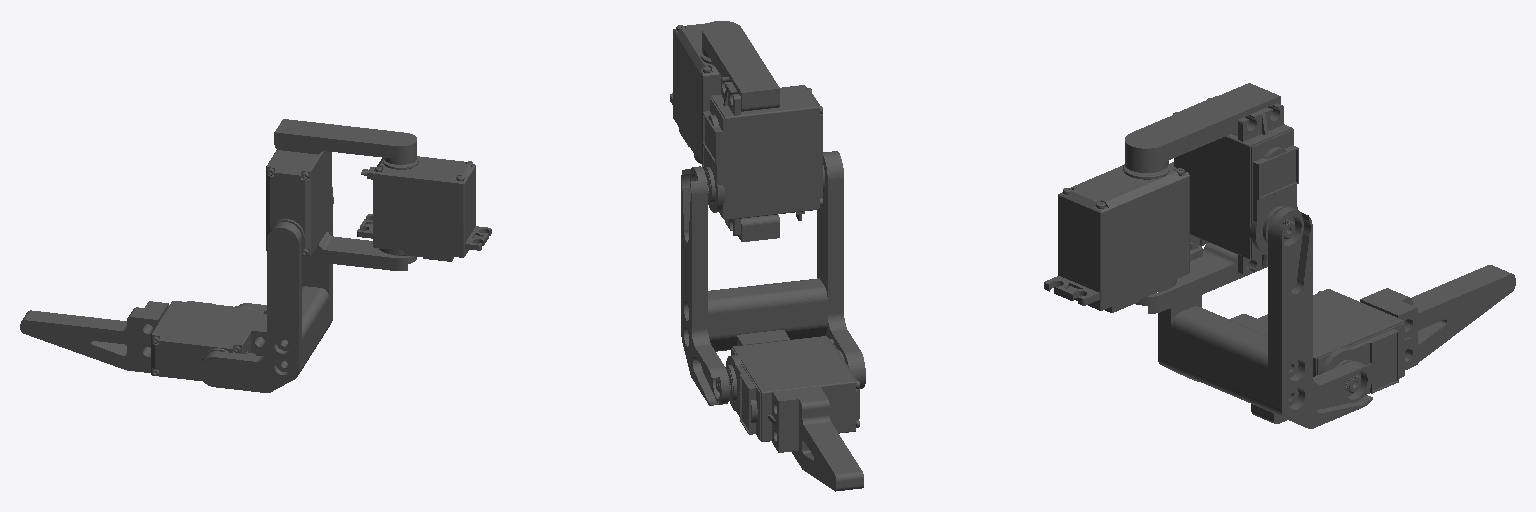
robot.urdf — hexapod:
<?xml version='1.0' encoding='utf-8'?>
<robot name="hexapod">

    <material name="black">
        <color rgba="0 0 0 1" />
    </material>

    <material name="gray">
        <color rgba="0.4 0.4 0.4 1" />
    </material>

    <material name="white">
        <color rgba="1 1 1 1" />
    </material>

    <material name="orange">
        <color rgba="0.902 0.345 0 1" />
    </material>

    <!--Leg 1 links-->
    <link name="base_link">
        <inertial>
            <origin xyz="-0.0213566016347122 0.013931984749781528 0.00836989290746161" rpy="0.0 -0.0 0.0" />
            <mass value="0.207953278714177" />
            <inertia ixx="3.989639417761133e-05" iyy="3.989640031111844e-05" izz="3.6226092838335206e-05" ixy="1.1428841708080039e-05" iyz="3.349213930771384e-07" ixz="-3.349118845850951e-07" />
        </inertial>
        <visual name="base_link_visual">
            <origin xyz="-0.013930002111251416 -0.007283200121891475 2.2204460492503132e-17" rpy="3.141592653589793 1.245344534372108e-16 2.356194490192345" />
            <geometry>
                <mesh filename="CAD/MG996R.stl" scale="0.001 0.001 0.001" />
            </geometry>
            <material name="gray"/>
        </visual>
        <collision name="base_link_collision">
            <origin xyz="-0.013930002111251416 -0.007283200121891475 2.2204460492503132e-17" rpy="3.141592653589793 1.245344534372108e-16 2.356194490192345" />
            <geometry>
                <mesh filename="CAD/MG996R.stl" scale="0.001 0.001 0.001" />
            </geometry>
        </collision>
    </link>

    <link name="leg_1_MG996R_f">
        <inertial>
            <origin xyz="0.024952796767646526 0.009630716290236095 0.0022060948384998546" rpy="0.0 -0.0 0.0" />
            <mass value="0.207953278714177" />
            <inertia ixx="2.846755553628441e-05" iyy="4.377565917187119e-05" izz="4.377567261890959e-05" ixy="3.349144703087767e-07" iyz="-7.549573057054858e-06" ixz="3.349188073535178e-07" />
        </inertial>
        <visual name="leg_1_MG996R_f_visual">
            <origin xyz="0.004699996796564361 0.01060660093167094 -0.01060660586827753" rpy="2.3561944901923453 3.410597503508584e-17 1.540743955509788e-32" />
            <geometry>
                <mesh filename="CAD/MG996R.stl" scale="0.001 0.001 0.001" />
            </geometry>
            <material name="gray"/>
        </visual>
        <collision name="leg_1_MG996R_f_collision">
            <origin xyz="0.004699996796564361 0.01060660093167094 -0.01060660586827753" rpy="2.3561944901923453 3.410597503508584e-17 1.540743955509788e-32" />
            <geometry>
                <mesh filename="CAD/MG996R.stl" scale="0.001 0.001 0.001" />
            </geometry>
        </collision>
    </link>

    <link name="leg_1_MG996R_t">
        <inertial>
            <origin xyz="0.008979632074602933 -0.02311780679666102 4.09182035809863e-09" rpy="0.0 -0.0 7.002961686799377e-34" />
            <mass value="0.207953278714177" />
            <inertia ixx="3.187318053441031e-05" iyy="3.282046784020779e-05" izz="5.1325238952446006e-05" ixy="-3.879268651024205e-06" iyz="6.92276835135608e-12" ixz="-2.5857237346299217e-12" />
        </inertial>
        <visual name="leg_1_MG996R_t_visual">
            <origin xyz="0.0005771479097073318 -0.043357107026899176 -0.009749998110869998" rpy="1.5707963267948968 -2.529221735498422e-16 0.7853981633974484" />
            <geometry>
                <mesh filename="CAD/MG996R.stl" scale="0.001 0.001 0.001" />
            </geometry>
            <material name="gray"/>
        </visual>
        <collision name="leg_1_MG996R_t_collision">
            <origin xyz="0.0005771479097073318 -0.043357107026899176 -0.009749998110869998" rpy="1.5707963267948968 -2.529221735498422e-16 0.7853981633974484" />
            <geometry>
                <mesh filename="CAD/MG996R.stl" scale="0.001 0.001 0.001" />
            </geometry>
        </collision>
    </link>

    <link name="leg_1_coxa_a">
        <inertial>
            <origin xyz="0.008150925434592561 0.01830499415619695 0.0006271852210843588" rpy="0.0 -0.0 0.0" />
            <mass value="0.03329037594662584" />
            <inertia ixx="4.131218918157248e-06" iyy="4.292509549727152e-06" izz="8.13497513364118e-06" ixy="-3.4675873338201415e-06" iyz="-4.436065358599036e-08" ixz="-4.967608887462187e-08" />
        </inertial>
        <visual name="leg_1_coxa_a_visual">
            <origin xyz="-0.008308500528462624 0.0015909894715424855 -0.001750003203435586" rpy="-1.245344534372106e-16 1.5023172683244996e-16 -0.7853981633974481" />
            <geometry>
                <mesh filename="CAD/coxa_a_right.stl" scale="0.001 0.001 0.001" />
            </geometry>
            <material name="gray"/>
        </visual>
        <collision name="leg_1_coxa_a_collision">
            <origin xyz="-0.008308500528462624 0.0015909894715424855 -0.001750003203435586" rpy="-1.245344534372106e-16 1.5023172683244996e-16 -0.7853981633974481" />
            <geometry>
                <mesh filename="CAD/coxa_a_right.stl" scale="0.001 0.001 0.001" />
            </geometry>
        </collision>
    </link>

    <link name="leg_1_coxa_b">
        <inertial>
            <origin xyz="-0.016082730051457803 -0.015894011955612512 -0.005835649360206568" rpy="0.0 -0.0 0.0" />
            <mass value="0.04490836615745227" />
            <inertia ixx="7.570806724760545e-06" iyy="7.815179248384845e-06" izz="1.486969927151291e-05" ixy="-6.737300382606579e-06" iyz="-1.0459627444581849e-07" ixz="-1.0048041289742698e-07" />
        </inertial>
        <visual name="leg_1_coxa_b_visual">
            <origin xyz="-0.037476660528462616 -0.037476660528457516 0.04149999679656438" rpy="-1.245344534372106e-16 1.5023172683245e-16 -0.7853981633974481" />
            <geometry>
                <mesh filename="CAD/coxa_b_right.stl" scale="0.001 0.001 0.001" />
            </geometry>
            <material name="gray"/>
        </visual>
        <collision name="leg_1_coxa_b_collision">
            <origin xyz="-0.037476660528462616 -0.037476660528457516 0.04149999679656438" rpy="-1.245344534372106e-16 1.5023172683245e-16 -0.7853981633974481" />
            <geometry>
                <mesh filename="CAD/coxa_b_right.stl" scale="0.001 0.001 0.001" />
            </geometry>
        </collision>
    </link>

    <link name="leg_1_femur_a">
        <inertial>
            <origin xyz="-0.007313766969440483 -0.0018738117298011225 0.03907114287949463" rpy="0.0 -0.0 0.0" />
            <mass value="0.06532641332455354" />
            <inertia ixx="4.0924780174512575e-05" iyy="4.0827509479549485e-05" izz="8.434001460605163e-06" ixy="-3.990162260728773e-06" iyz="7.2994033516955215e-06" ixz="7.334386903970892e-06" />
        </inertial>
        <visual name="leg_1_femur_a_visual">
            <origin xyz="-0.0007071020514142746 0.0007071066182250796 -3.203435625653839e-09" rpy="1.5707963267948966 -0.6108652381980162 -2.356194490192345" />
            <geometry>
                <mesh filename="CAD/femur_a_right.stl" scale="0.001 0.001 0.001" />
            </geometry>
            <material name="gray"/>
        </visual>
        <collision name="leg_1_femur_a_collision">
            <origin xyz="-0.0007071020514142746 0.0007071066182250796 -3.203435625653839e-09" rpy="1.5707963267948966 -0.6108652381980162 -2.356194490192345" />
            <geometry>
                <mesh filename="CAD/femur_a_right.stl" scale="0.001 0.001 0.001" />
            </geometry>
        </collision>
    </link>
    
    <link name="leg_1_femur_b">
        <inertial>
            <origin xyz="0.015606805962859537 0.015152340349115861 -0.0052004379221506185" rpy="0.0 -0.0 -7.002961686799377e-34" />
            <mass value="0.0800214310563922" />
            <inertia ixx="9.693159673782297e-06" iyy="9.69315967378208e-06" izz="1.3901924233197978e-05" ixy="-5.667417293105776e-06" iyz="-1.3985747771352728e-07" ixz="1.398574777137448e-07" />
        </inertial>
        <visual name="leg_1_femur_b_visual">
            <origin xyz="-2.051414238479765e-09 3.3817748779085832e-09 0.04770578320343561" rpy="-1.5707963267948968 0.6108652381980162 2.356194490192345" />
            <geometry>
                <mesh filename="CAD/femur_b_right.stl" scale="0.001 0.001 0.001" />
            </geometry>
            <material name="gray"/>
        </visual>
        <collision name="leg_1_femur_b_collision">
            <origin xyz="-2.051414238479765e-09 3.3817748779085832e-09 0.04770578320343561" rpy="-1.5707963267948968 0.6108652381980162 2.356194490192345" />
            <geometry>
                <mesh filename="CAD/femur_b_right.stl" scale="0.001 0.001 0.001" />
            </geometry>
        </collision>
    </link>

    <link name="leg_1_femur_c">
        <inertial>
            <origin xyz="-0.0010886446390956995 -0.004918304334164514 -0.006733416303654849" rpy="0.0 -0.0 7.002961686799377e-34" />
            <mass value="0.048399072148255506" />
            <inertia ixx="2.2465407655417502e-05" iyy="2.259983189186051e-05" izz="4.141692185716337e-06" ixy="-1.929776213000357e-06" iyz="3.2931885882197726e-06" ixz="3.246172654049007e-06" />
        </inertial>
        <visual name="leg_1_femur_c_visual">
            <origin xyz="-0.030759142051414213 0.03075914661822509 -0.04770578320343558" rpy="1.5707963267948966 -0.6108652381980162 -2.356194490192345" />
            <geometry>
                <mesh filename="CAD/femur_c_right.stl" scale="0.001 0.001 0.001" />
            </geometry>
            <material name="gray"/>
        </visual>
        <collision name="leg_1_femur_c_collision">
            <origin xyz="-0.030759142051414213 0.03075914661822509 -0.04770578320343558" rpy="1.5707963267948966 -0.6108652381980162 -2.356194490192345" />
            <geometry>
                <mesh filename="CAD/femur_c_right.stl" scale="0.001 0.001 0.001" />
            </geometry>
        </collision>
    </link>

    <link name="leg_1_tibia">
        <inertial>
            <origin xyz="-0.04085132676876166 0.025253080823863953 -0.009277024870086095" rpy="0.0 -0.0 -1.6038036517675087e-64" />
            <mass value="0.10828707727885009" />
            <inertia ixx="5.5437188486367334e-05" iyy="6.147434583849689e-05" izz="0.0001071830159033978" ixy="5.173583962738001e-05" iyz="-2.259988236504463e-06" ixz="1.476543947169463e-06" />
        </inertial>
        <visual name="leg_1_tibia_visual">
            <origin xyz="-0.03719381938681872 0.026870057867797073 0.004749998110869997" rpy="2.356194490192345 1.5707963267948963 0" />
            <geometry>
                <mesh filename="CAD/tibia_right.stl" scale="0.001 0.001 0.001" />
            </geometry>
            <material name="gray"/>
        </visual>
        <collision name="leg_1_tibia_collision">
            <origin xyz="-0.03719381938681872 0.026870057867797073 0.004749998110869997" rpy="2.356194490192345 1.5707963267948963 0" />
            <geometry>
                <mesh filename="CAD/tibia_right.stl" scale="0.001 0.001 0.001" />
            </geometry>
        </collision>
    </link>

    <!-- Leg 1 joints -->

    <joint name="leg_1_coxa_joint" type="revolute">
        <origin xyz="-0.028425689999999997 0.021001069999999997 0.031066209999999997" rpy="3.141592653589793 -0.0 3.0033433937731107e-33" />
        <parent link="base_link" />
        <child link="leg_1_coxa_b" />
        <axis xyz="0.0 0.0 1.0" />
        <limit lower="-1.570796" upper="1.570796" effort="1000000" velocity="1000000" />
    </joint>

    <joint name="leg_1_coxa_b_MG996R_f" type="fixed">
        <origin xyz="-0.02916816000000001 -0.03906765 -0.00535" rpy="6.626416783217546e-33 -1.5707963267948966 0" />
        <parent link="leg_1_coxa_b" />
        <child link="leg_1_MG996R_f" />
    </joint>

    <joint name="leg_1_MG996R_f_coxa_a" type="fixed">
        <origin xyz="0.0494 0.0 0.0" rpy="6.704561300464011e-33 1.5707963267948966 0" />
        <parent link="leg_1_MG996R_f" />
        <child link="leg_1_coxa_a" />
    </joint>

    <joint name="leg_1_femur_joint" type="revolute">
        <origin xyz="0.03495 0.025679440000000008 0.01825481999999999" rpy="6.704561300464011e-33 1.5707963267948966 0" />
        <parent link="leg_1_MG996R_f" />
        <child link="leg_1_femur_a" />
        <axis xyz="0.707107 -0.707107 1.999343393356845e-32" />
        <limit lower="-0.785398" upper="2.356194" effort="1000000" velocity="1000000" />
    </joint>

    <joint name="leg_1_femur_a_femur_b" type="fixed">
        <origin xyz="-0.0007071000000000005 0.000707109999999993 0.04770578" rpy="-3.141592653589793 1.6337250741359954e-17 -5.551115123125783e-17" />
        <parent link="leg_1_femur_a" />
        <child link="leg_1_femur_b" />
    </joint>
    
    <joint name="leg_1_femur_b_femur_c" type="fixed">
        <origin xyz="0.03075914000000001 0.030759150000000002 0.0" rpy="3.141592653589793 -0.0 -7.002961686799377e-34" />
        <parent link="leg_1_femur_b" />
        <child link="leg_1_femur_c" />
    </joint>

    <joint name="leg_1_tibia_joint" type="revolute">
        <origin xyz="-0.020918530000000005 -0.020918540000000013 0.06344154" rpy="4.0156312877350055e-17 1.6337250741359954e-17 -5.551115123125783e-17" />
        <parent link="leg_1_femur_a" />
        <child link="leg_1_MG996R_t" />
        <axis xyz="-0.707107 0.707107 -1.8398022027031245e-17" />
        <limit lower="-1.570796" upper="1.570796" effort="1000000" velocity="1000000" />
    </joint>

    <joint name="leg_1_MG996R_t_tibia" type="fixed">
        <origin xyz="0.033881879999999996 -0.013446489999999986 -0.005250000000000004" rpy="3.141592653589793 -1.6337250741359945e-17 5.551115123125788e-17" />
        <parent link="leg_1_MG996R_t" />
        <child link="leg_1_tibia" />
    </joint>

</robot>

--- Render facts (derived) ---
The picture shows the robot from 3 angles, left to right: view 1: azimuth 30°, elevation 25°; view 2: azimuth 150°, elevation 25°; view 3: azimuth 270°, elevation 25°; orthographic projection.
Robot: hexapod — 9 links, 8 joints (3 revolute, 5 fixed); root link base_link; default pose: every joint at zero.
Links seen in each view (by area): view 1: base_link, leg_1_femur_a, leg_1_tibia, leg_1_MG996R_t, leg_1_MG996R_f, leg_1_coxa_b, leg_1_coxa_a, leg_1_femur_b, leg_1_femur_c; view 2: leg_1_MG996R_f, leg_1_MG996R_t, leg_1_femur_c, leg_1_femur_b, leg_1_tibia, leg_1_femur_a, base_link, leg_1_coxa_b, leg_1_coxa_a; view 3: base_link, leg_1_MG996R_f, leg_1_femur_c, leg_1_MG996R_t, leg_1_femur_b, leg_1_tibia, leg_1_coxa_b, leg_1_coxa_a, leg_1_femur_a.
Link boxes in pixels (x1,y1,x2,y2): base_link: (357,156,491,261); leg_1_femur_a: (199,222,301,392); leg_1_tibia: (20,301,266,372); leg_1_MG996R_t: (151,301,263,380); leg_1_MG996R_f: (266,150,333,256); leg_1_coxa_b: (274,119,416,164); leg_1_coxa_a: (302,232,416,270); leg_1_femur_b: (283,286,328,368); leg_1_femur_c: (239,187,332,326); leg_1_MG996R_f: (694,77,824,235); leg_1_MG996R_t: (716,336,859,446); leg_1_femur_c: (681,166,729,405); leg_1_femur_b: (708,278,827,351); leg_1_tibia: (737,330,863,491); leg_1_femur_a: (817,151,865,388); base_link: (670,23,720,164); leg_1_coxa_b: (702,21,779,111); leg_1_coxa_a: (702,165,779,241); base_link: (1044,164,1202,312); leg_1_MG996R_f: (1173,96,1298,274); leg_1_femur_c: (1268,207,1372,428); leg_1_MG996R_t: (1241,289,1412,396); leg_1_femur_b: (1171,306,1272,412); leg_1_tibia: (1251,265,1515,423); leg_1_coxa_b: (1125,83,1280,172); leg_1_coxa_a: (1136,243,1267,313); leg_1_femur_a: (1158,162,1256,381).
Size in the robot's own frame: 0.1534 by 0.1493 by 0.1176 metres.
9 mesh visuals loaded from 7 distinct referenced files (7 binary STL).